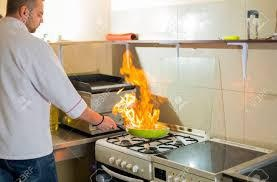fire: (113, 47, 167, 130)
